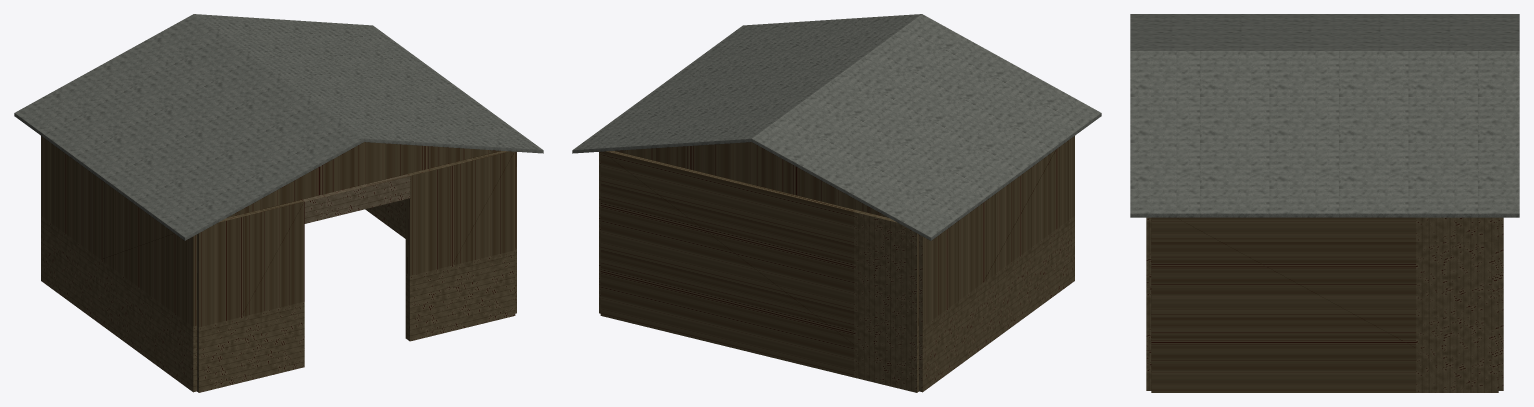
The model's file is RN_paiol.gltf.
3 views of the same model, side by side, from view 1: azimuth 30°, elevation 25°; view 2: azimuth 150°, elevation 25°; view 3: azimuth 270°, elevation 25° (orthographic). The views are drawn at different scales.
Visible parts, largest first — view 1: paiol_TELHADO, paiol_FACHADA, paiol_LATERAL, paiol_EMPENA, paiol_VERGA; view 2: paiol_TELHADO, paiol_FUNDOS, paiol_LATERAL, paiol_EMPENA; view 3: paiol_TELHADO, paiol_LATERAL, paiol_FUNDOS, paiol_FACHADA.
Boxes of the visible parts, x1,y1,x2,y2 form: paiol_TELHADO: (14, 14, 543, 240); paiol_FACHADA: (197, 151, 515, 392); paiol_LATERAL: (41, 136, 516, 392); paiol_EMPENA: (227, 142, 500, 217); paiol_VERGA: (302, 174, 410, 223); paiol_TELHADO: (572, 14, 1101, 240); paiol_FUNDOS: (600, 151, 918, 392); paiol_LATERAL: (599, 136, 1074, 392); paiol_EMPENA: (615, 142, 888, 217); paiol_TELHADO: (1130, 14, 1519, 217); paiol_LATERAL: (1151, 217, 1498, 392); paiol_FUNDOS: (1498, 217, 1503, 390); paiol_FACHADA: (1146, 217, 1151, 390).
Size of the model in its own units: 6.8 by 4 by 5.6.
Materials: 3 (3 with a texture image).
